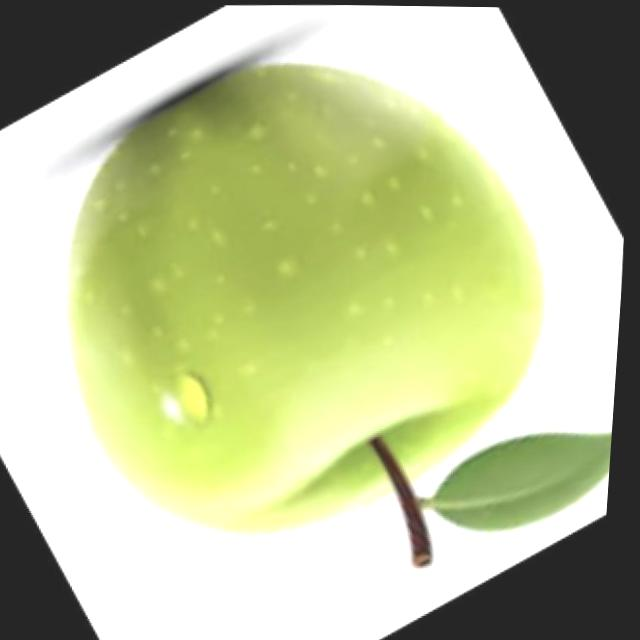Apple: (51, 53, 568, 545)
